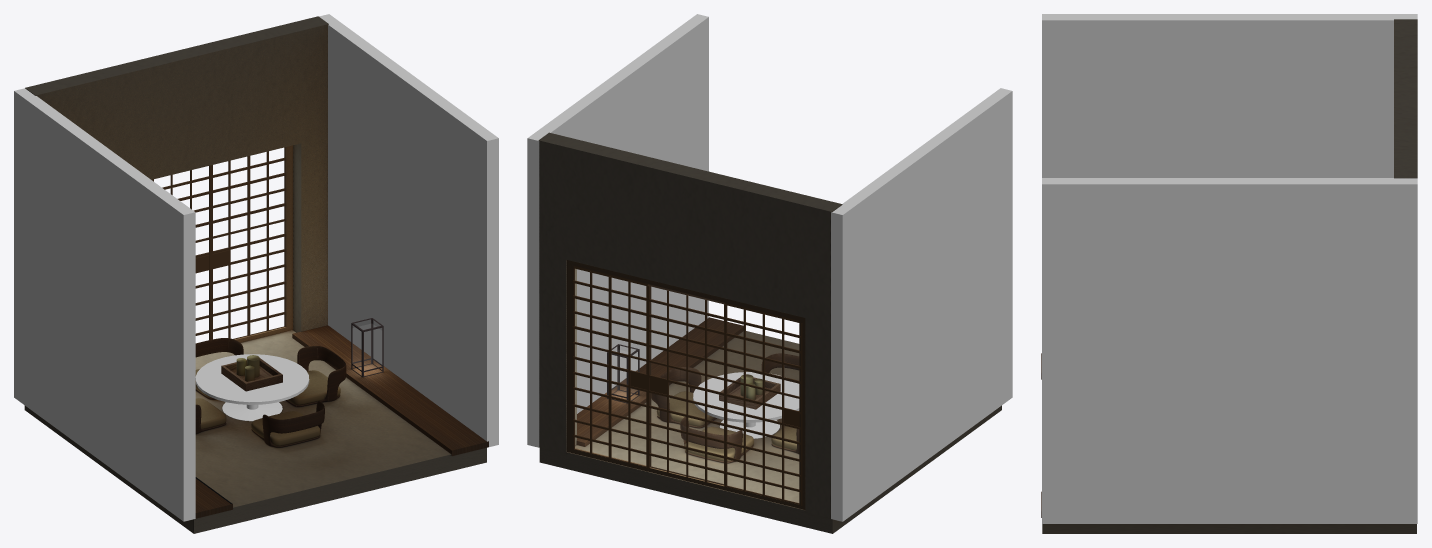
The picture shows the model from 3 angles, left to right: view 1: azimuth 30°, elevation 25°; view 2: azimuth 150°, elevation 25°; view 3: azimuth 270°, elevation 25°; orthographic projection. The views are drawn at different scales.
Parts seen in each view (by area): view 1: lewa_sciana_Cube.002; view 2: lewa_sciana_Cube.002; view 3: lewa_sciana_Cube.002.
Boxes of the visible parts, box(x1,y1,x2,y2) form: lewa_sciana_Cube.002: box(14, 14, 498, 533); lewa_sciana_Cube.002: box(527, 14, 1012, 533); lewa_sciana_Cube.002: box(1041, 14, 1417, 533).
Bounding box in the file's own units: 28.17 × 27.5 × 26.32.
